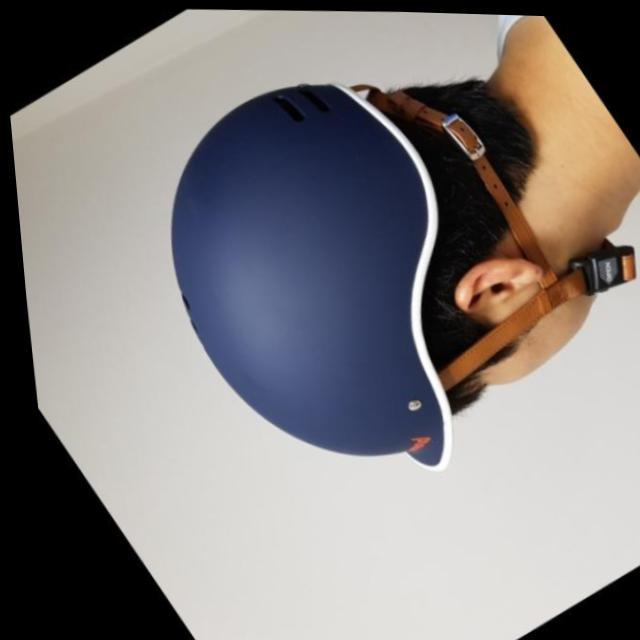with_helmet: (169, 76, 633, 471)
